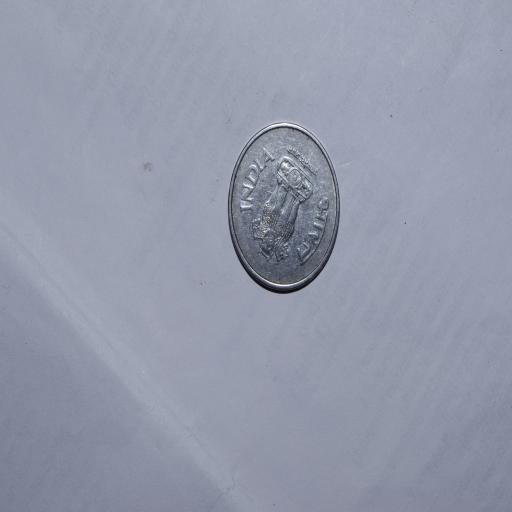rupee1: (227, 120, 339, 296)
